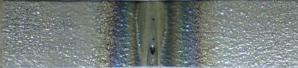soldas: (104, 1, 207, 67)
